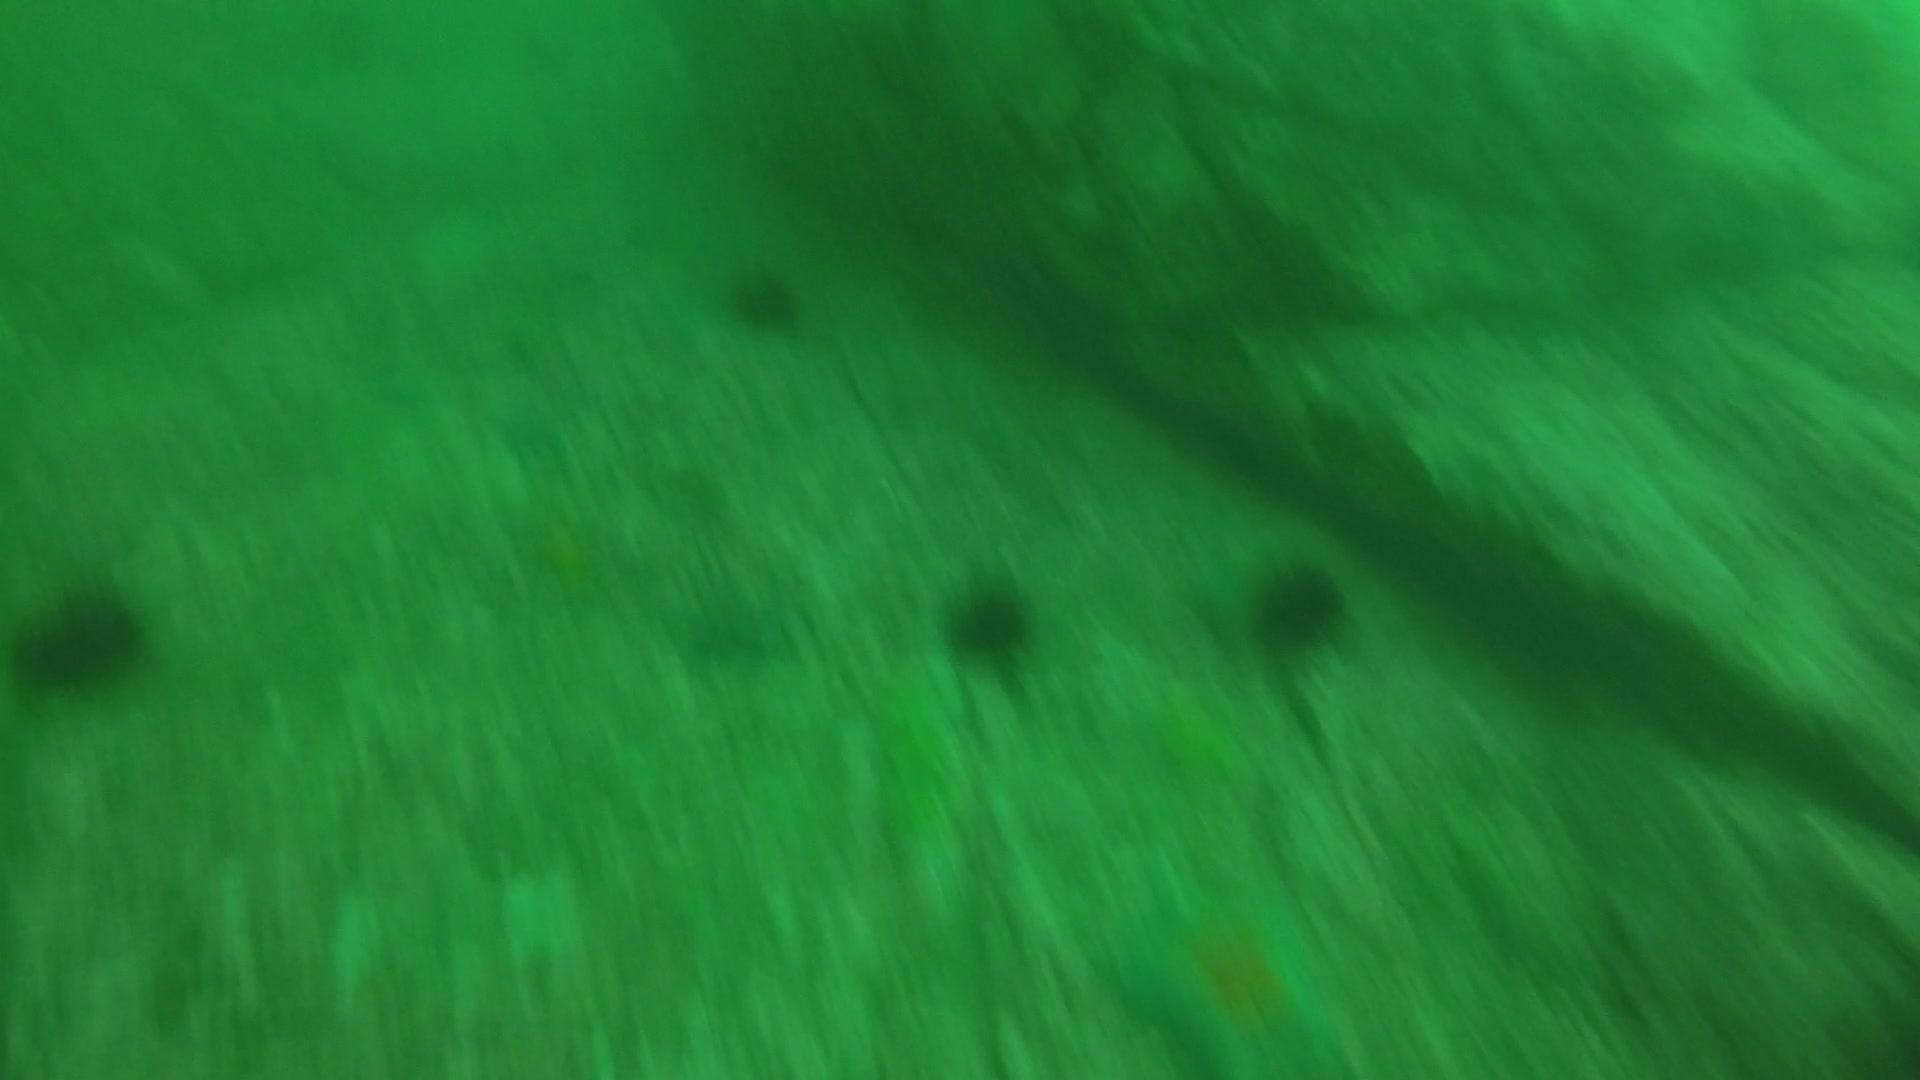echinus: (5, 575, 153, 702), (1244, 554, 1354, 655), (938, 571, 1043, 670), (717, 258, 808, 338)
starfish: (1104, 862, 1354, 1080)
